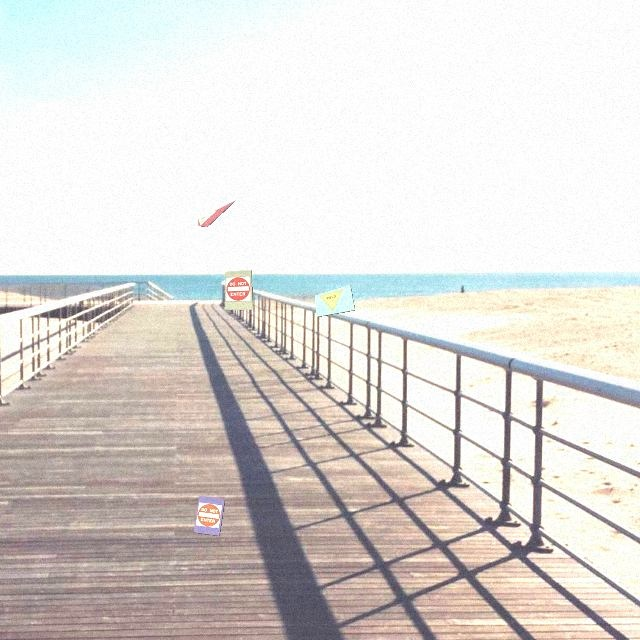DO_NOT_ENTER: (196, 502, 222, 529), (226, 276, 251, 301)
NOT_YIELD: (198, 209, 219, 226)
YIELD: (319, 289, 347, 314)
